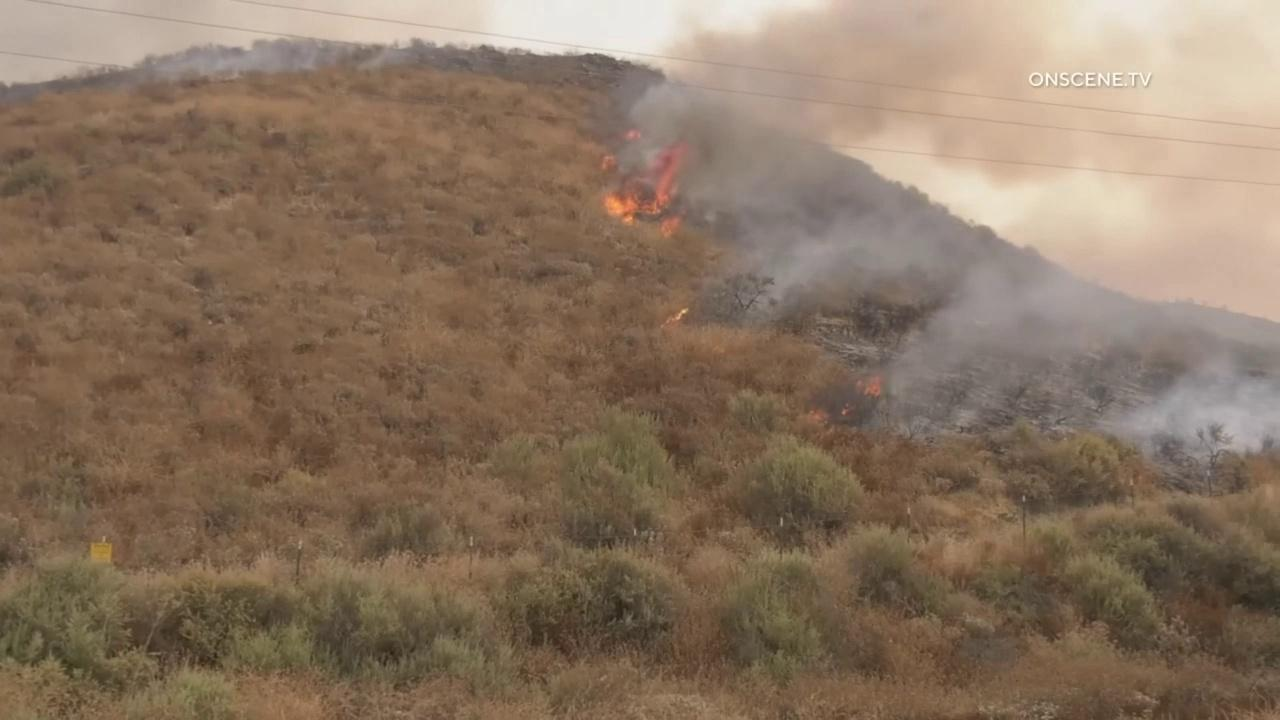fire: (604, 144, 688, 239), (659, 307, 689, 328), (864, 376, 880, 397), (602, 154, 615, 172), (625, 128, 641, 142), (842, 403, 849, 414)
smoke: (602, 0, 1280, 460), (0, 0, 500, 103)
